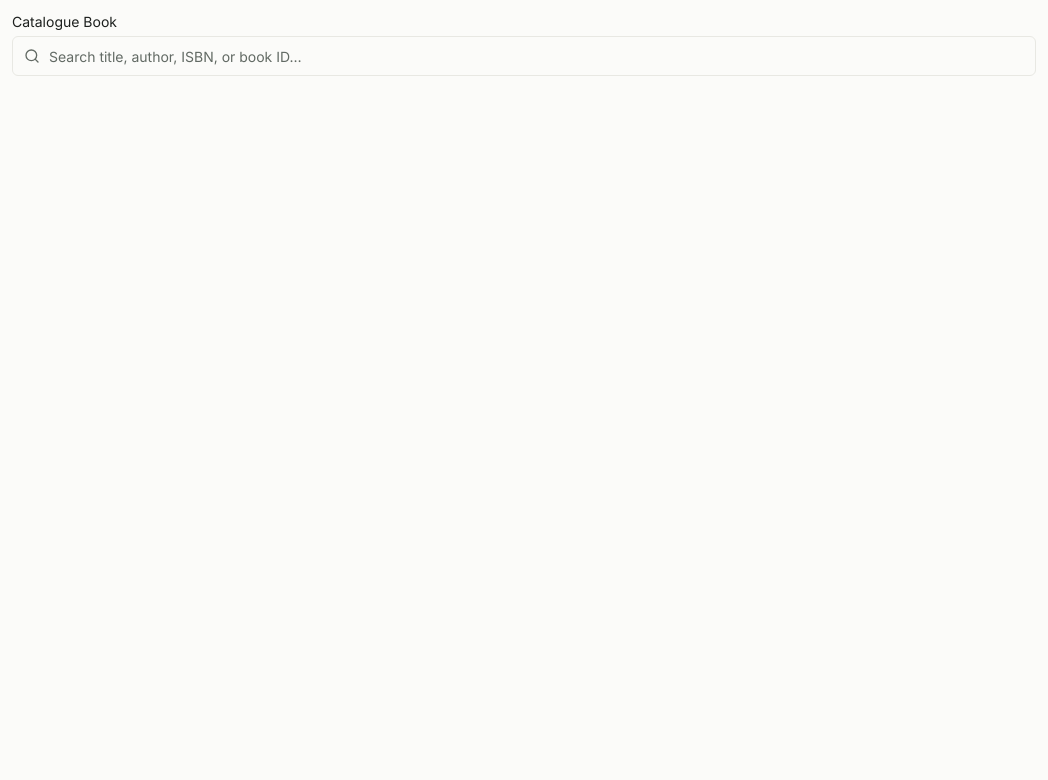
Scenario: CatalogueSelector › closes the dropdown when the user clicks outside the selector
Focus the field named "Catalogue Book" at (524, 56), box [12,36,1036,76]
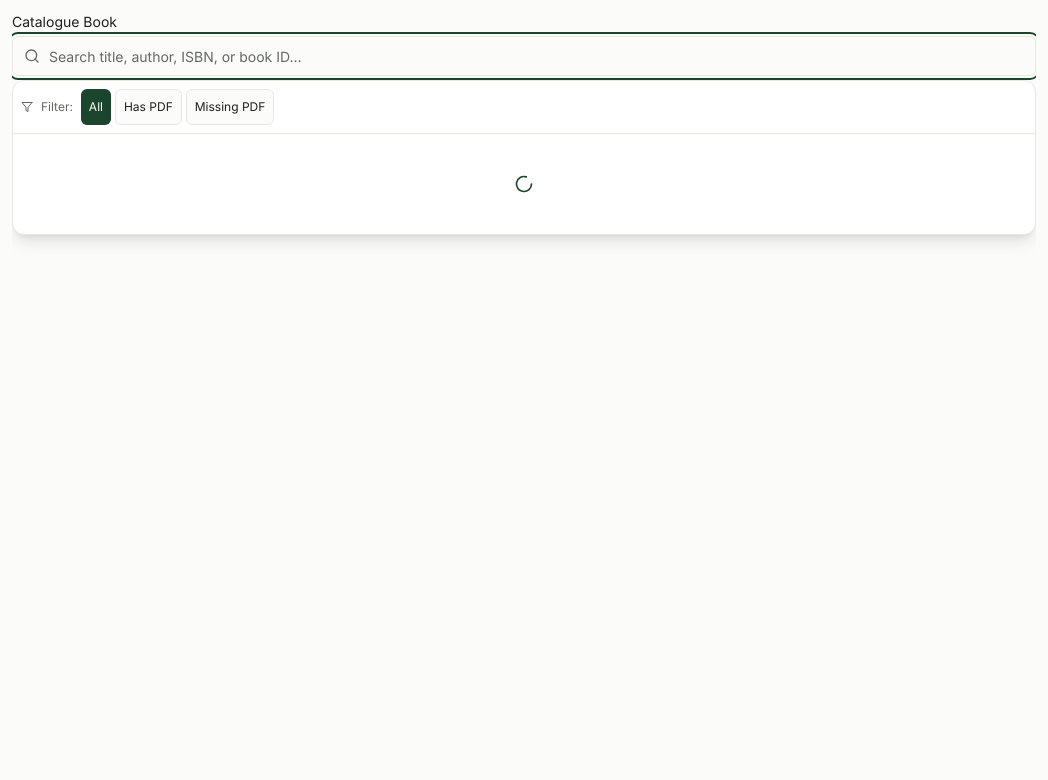
Result: the list is shown at [12,80,1036,235]
Press the mouse on the element showing "Catalogue Book Filter: All Has PDF Missing PDF" at (524, 396), box [12,12,1036,779]
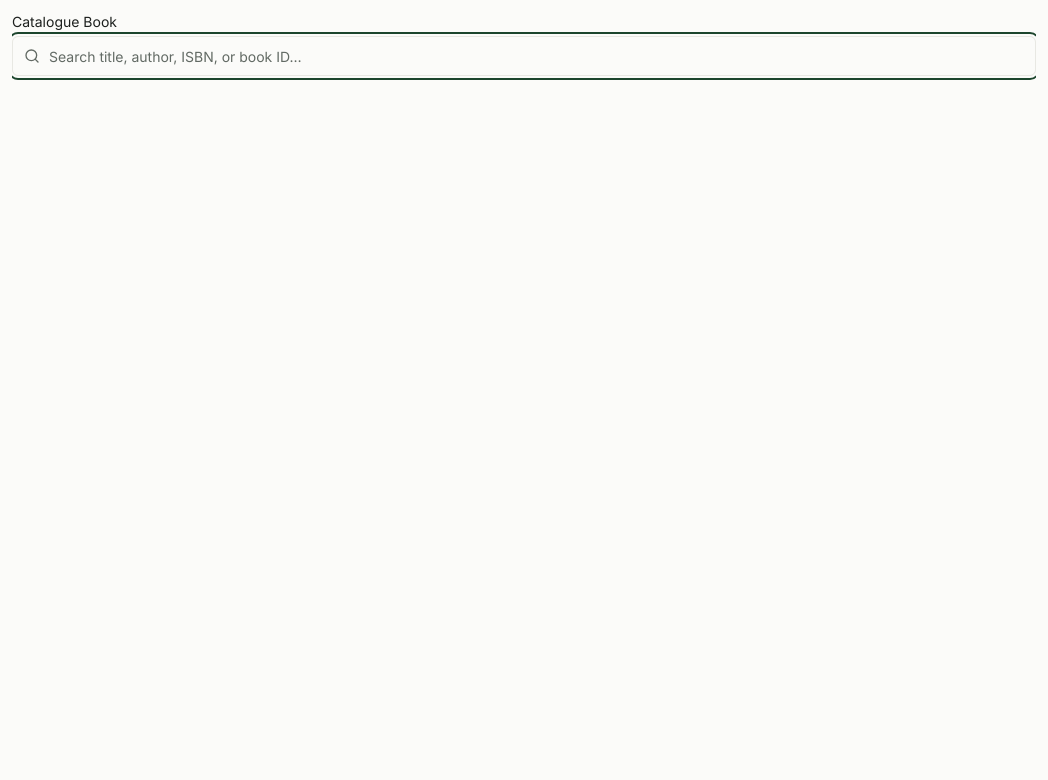
Result: the list is gone
